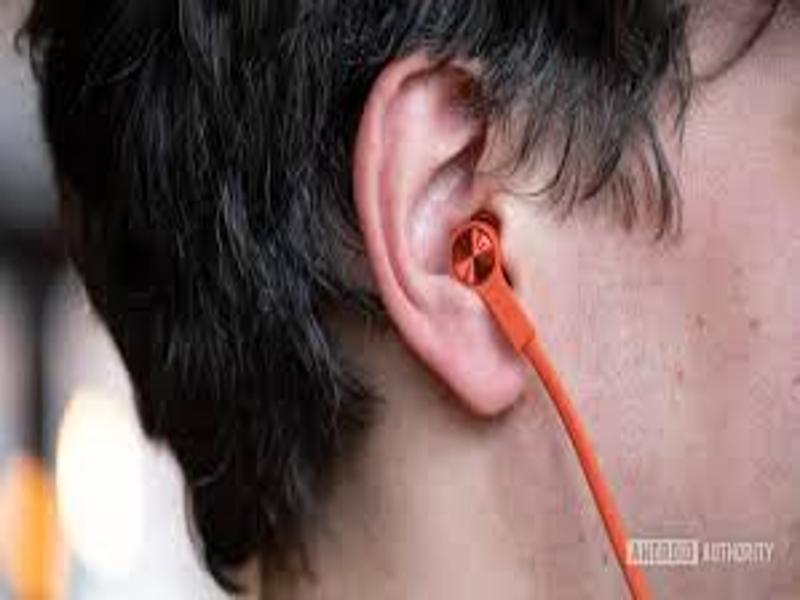headphone: (445, 213, 536, 343)
